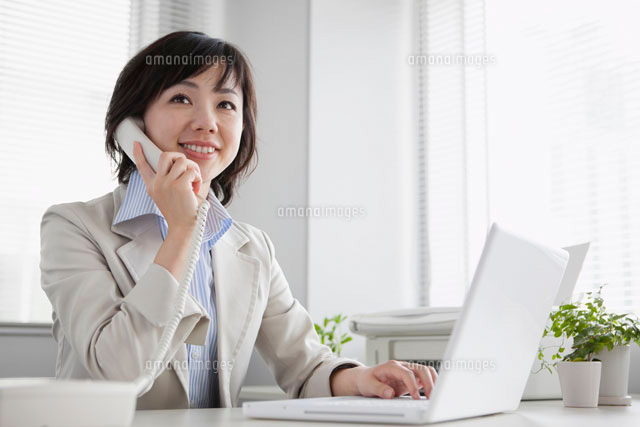phone: (133, 140, 204, 202)
talk: (131, 77, 244, 222)
